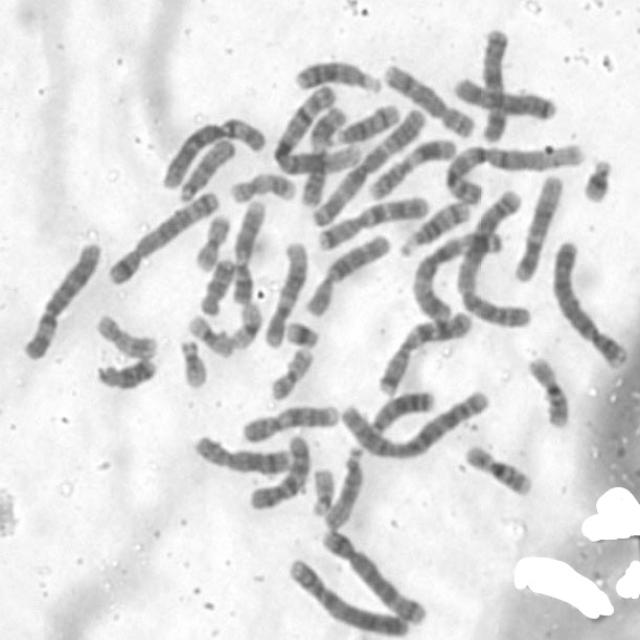A1: (439, 135, 588, 206), (271, 81, 365, 175)
A2: (338, 380, 496, 461), (452, 183, 534, 329)
A3: (305, 100, 430, 228), (406, 225, 505, 324)
B4: (284, 551, 414, 638), (548, 234, 631, 370)
B5: (317, 520, 431, 628), (104, 184, 222, 287)
C10: (302, 227, 393, 318), (245, 429, 312, 512)
C11: (364, 132, 459, 202), (297, 100, 348, 208)
C12: (509, 168, 566, 284), (260, 235, 310, 349)
C6: (18, 235, 104, 362), (158, 109, 270, 191)
C7: (374, 305, 476, 396), (313, 188, 433, 252)
C8: (379, 57, 479, 139), (189, 429, 295, 476)
C9: (236, 397, 342, 445), (228, 193, 269, 305)
D13: (361, 382, 437, 440), (290, 53, 385, 95)
D14: (396, 194, 473, 259), (328, 97, 401, 145)
D15: (320, 440, 368, 532), (176, 134, 238, 203)
E16: (459, 437, 534, 497), (524, 350, 574, 429)
E17: (91, 308, 161, 360), (226, 166, 299, 205)
E18: (193, 251, 240, 318), (92, 352, 159, 392)
F19: (184, 308, 237, 358), (227, 296, 266, 350)
F20: (264, 342, 316, 402), (188, 207, 233, 272)
G21: (577, 151, 615, 205), (280, 314, 322, 349)
G22: (175, 331, 211, 390), (307, 462, 338, 517)
X: (448, 70, 560, 122), (475, 22, 511, 144)
